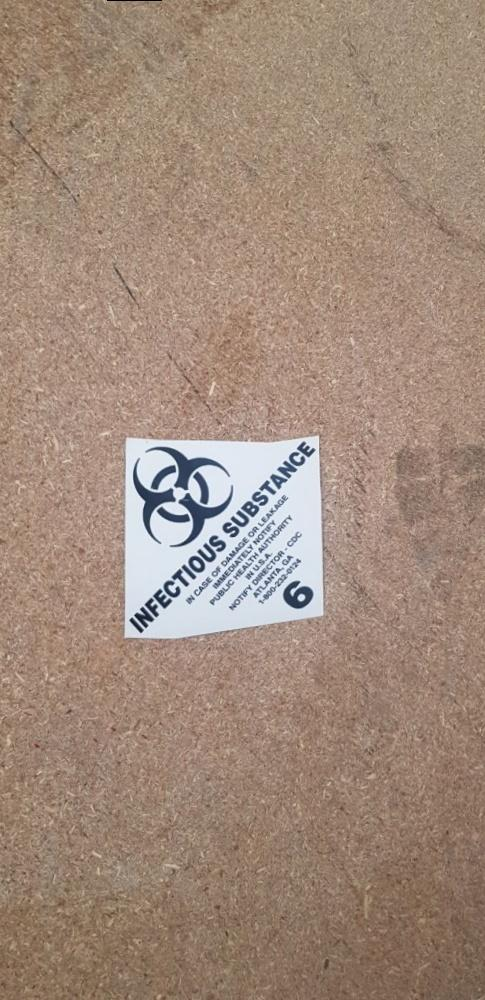infectious-substance: (123, 430, 328, 639)
